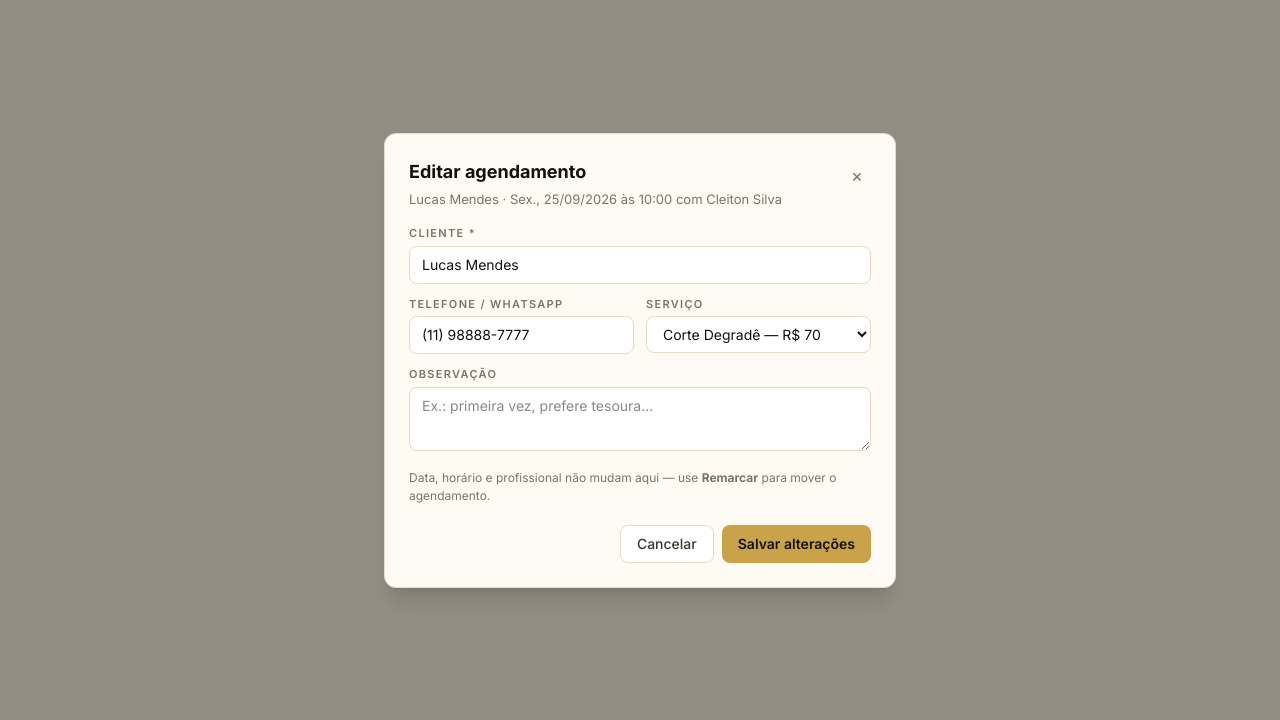
Scenario: EditarAgendamentoModal — edição de campos › recusa nome de cliente muito curto sem salvar
Replace the text in the field labelled "Cliente *" with "A" at (640, 264), box [409,246,871,284]
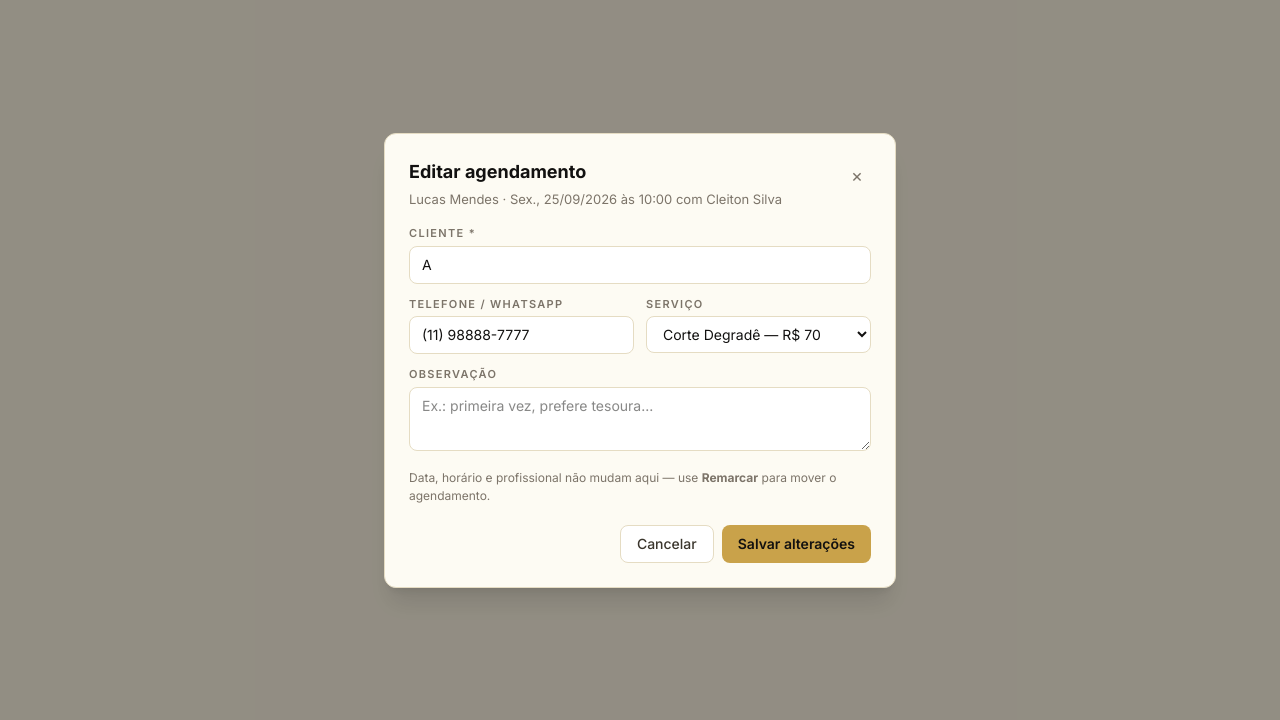
Click the button "Salvar alterações" at (796, 544), box [722,524,871,562]
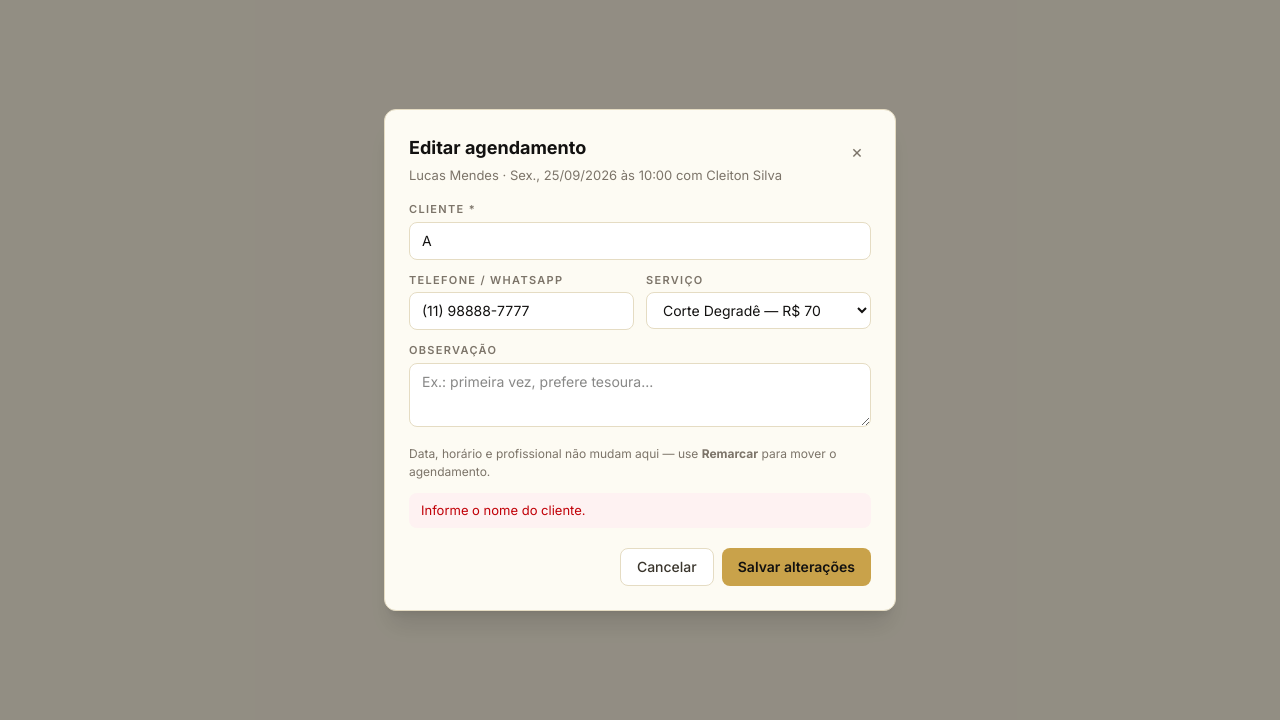
Expected: the text "Informe o nome do cliente." is shown, [409,493,871,528]
